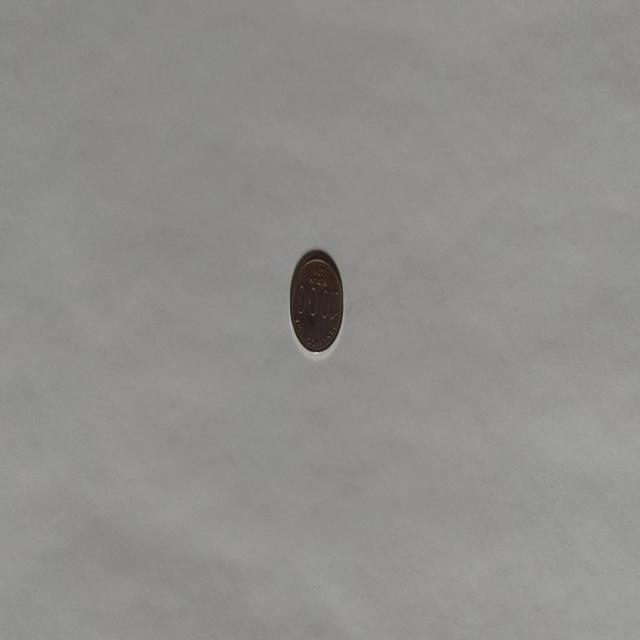seribu rupiah koin: (288, 247, 344, 357)
